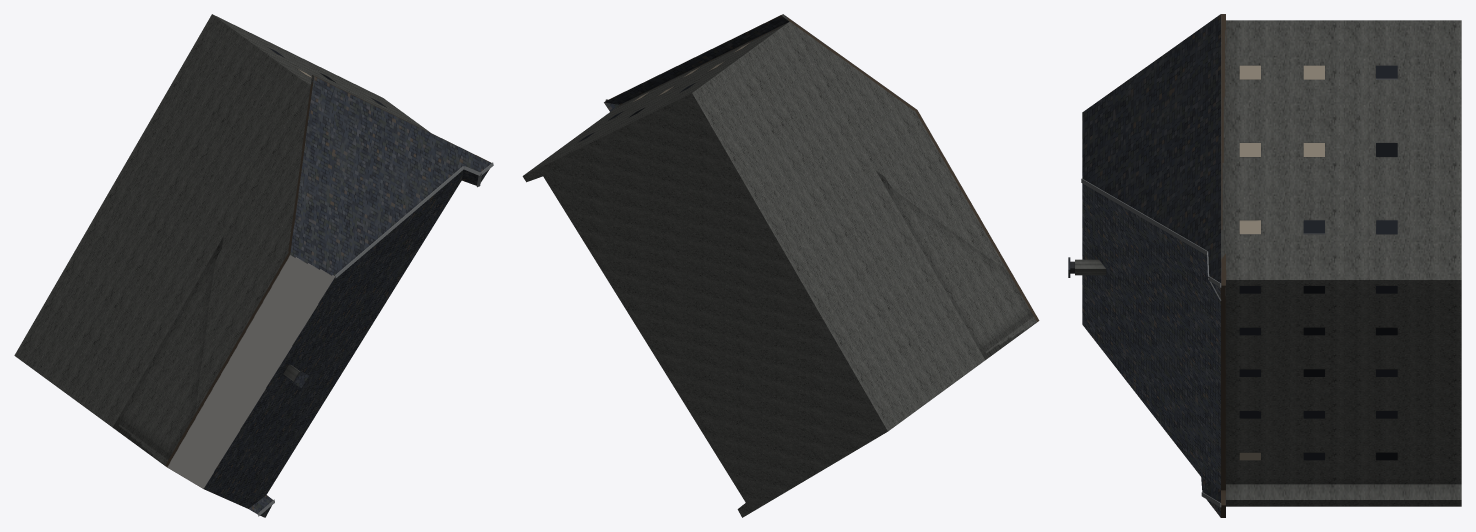
The model's file is house_b0128.obj.
3 renders of one model, left to right at view 1: azimuth 30°, elevation 25°; view 2: azimuth 150°, elevation 25°; view 3: azimuth 270°, elevation 25°, orthographic. The views are drawn at different scales.
Parts seen in each view (by area): view 1: house_b0128; view 2: house_b0128; view 3: house_b0128.
Part boxes in pixels (left/top/right/bottom): house_b0128: left=14, top=14, right=493, bottom=517; house_b0128: left=522, top=14, right=1039, bottom=517; house_b0128: left=1068, top=14, right=1461, bottom=517.
Size of the model in its own units: 25.66 by 27.59 by 18.43.
1 material, 1 textured.
